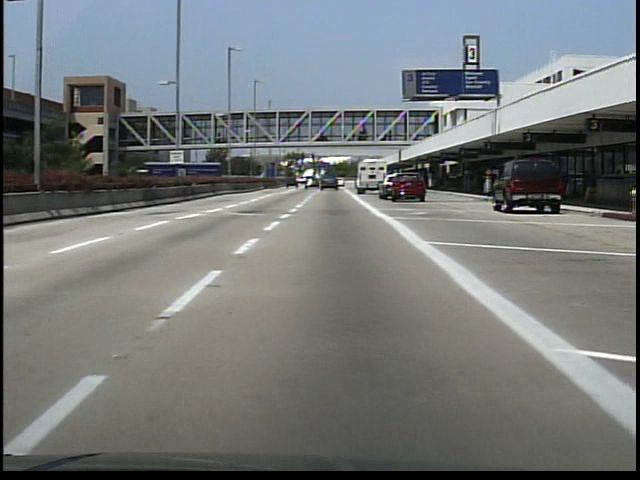person: (413, 171, 430, 200)
